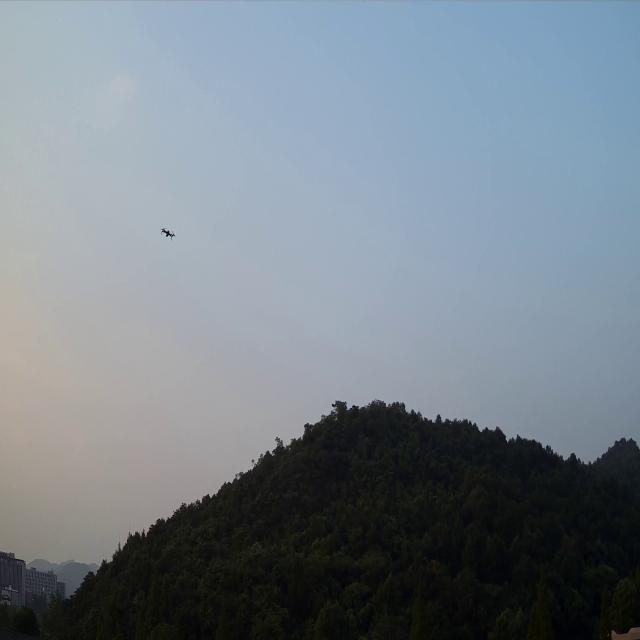UAV: (160, 227, 176, 240)
